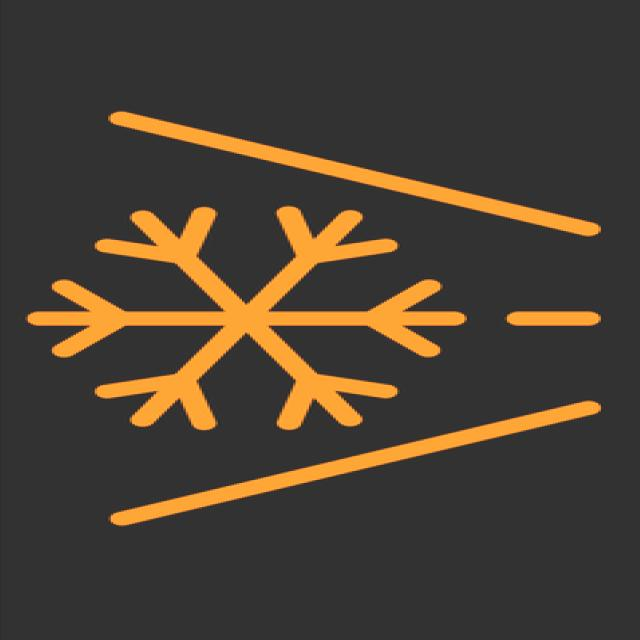kontrolka: (11, 83, 624, 543)
